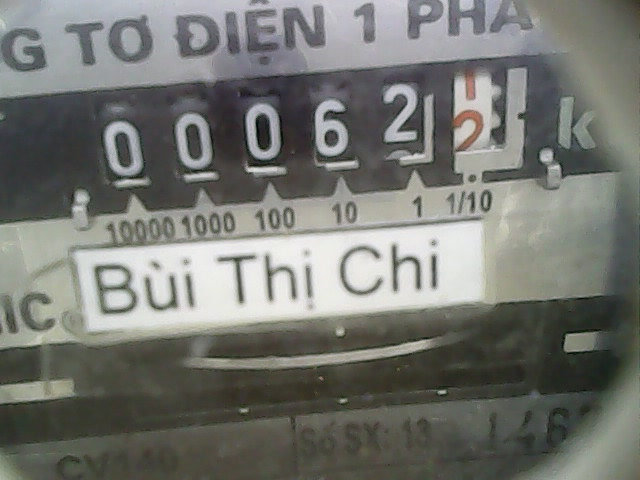phy_plate: (77, 57, 539, 213)
